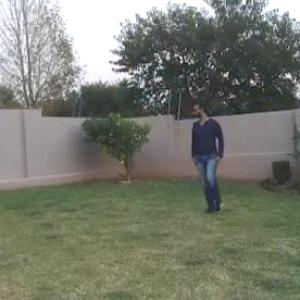follow: (184, 91, 230, 226)
